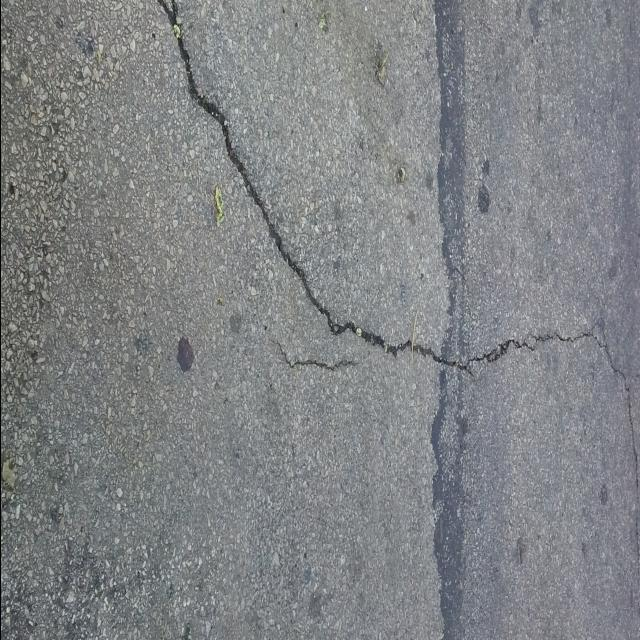Crack: (155, 0, 639, 601), (270, 339, 357, 373)
